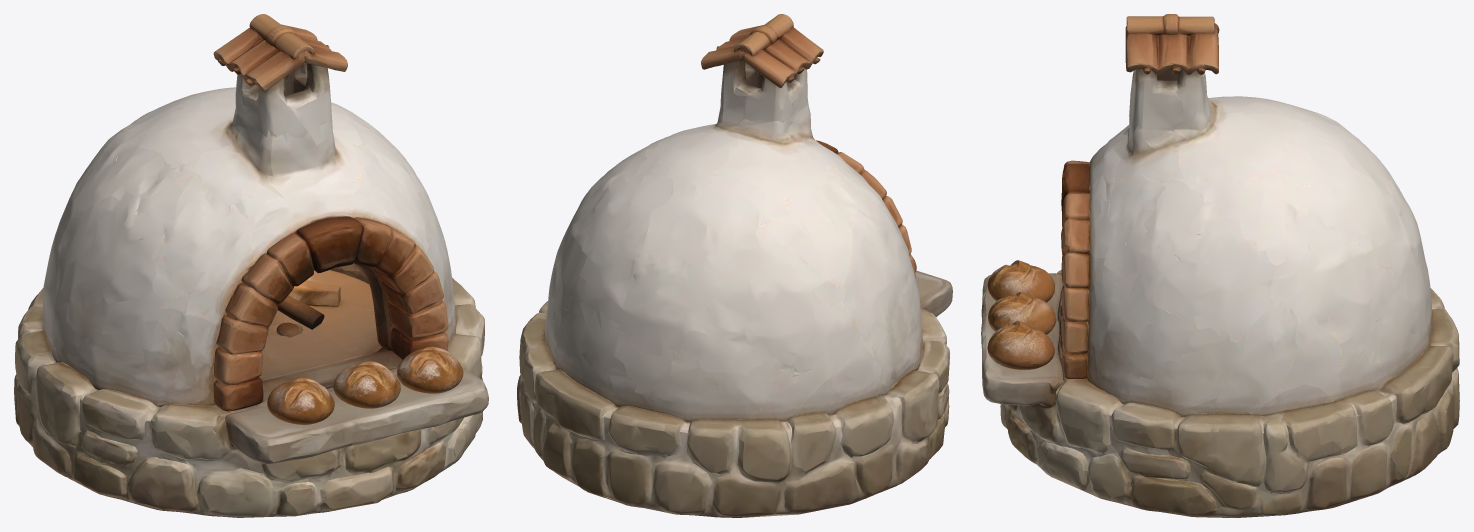
File: oven.glb
The picture shows the model from 3 angles, left to right: view 1: azimuth 30°, elevation 25°; view 2: azimuth 150°, elevation 25°; view 3: azimuth 270°, elevation 25°; orthographic projection. The views are drawn at different scales.
Visible parts, largest first — view 1: Mesh_0; view 2: Mesh_0; view 3: Mesh_0.
Part boxes in pixels (left/top/right/bottom): Mesh_0: left=14, top=14, right=488, bottom=517; Mesh_0: left=517, top=14, right=952, bottom=517; Mesh_0: left=981, top=14, right=1459, bottom=517.
Size of the model in its own units: 1.85 by 1.79 by 1.9.
Materials: 1 (1 with a texture image).
